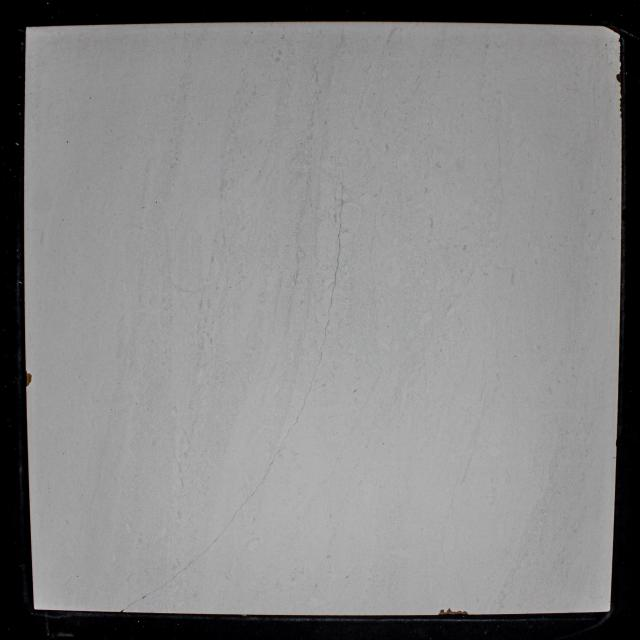edge-chipping: (438, 608, 469, 616), (603, 26, 621, 35), (26, 370, 32, 387), (616, 74, 623, 84), (618, 36, 622, 44), (120, 608, 126, 612)
line: (320, 180, 344, 359), (127, 560, 195, 608), (285, 360, 321, 439), (197, 502, 246, 557), (247, 441, 285, 499)
